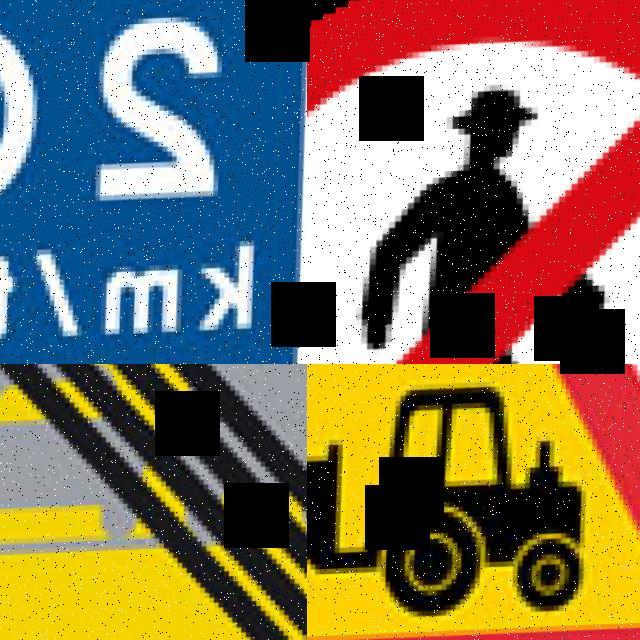109: (0, 364, 307, 640)
149: (307, 364, 640, 640)
No entry for pedestrians: (307, 0, 640, 364)
lowspeed zone: (0, 0, 307, 364)
